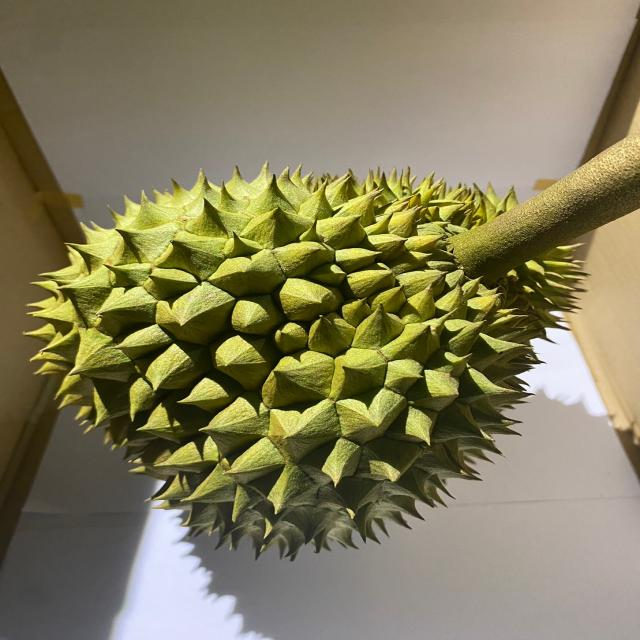immature: (28, 167, 597, 562)
